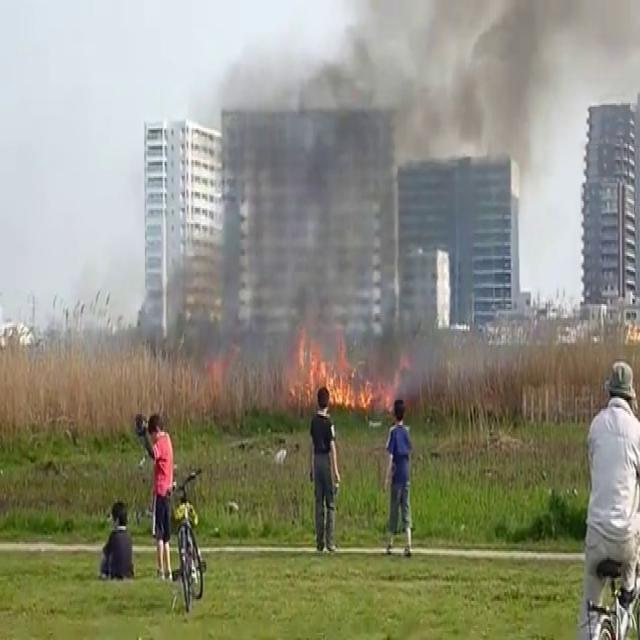Fire: (283, 327, 368, 416)
Smoke: (208, 0, 606, 380)
